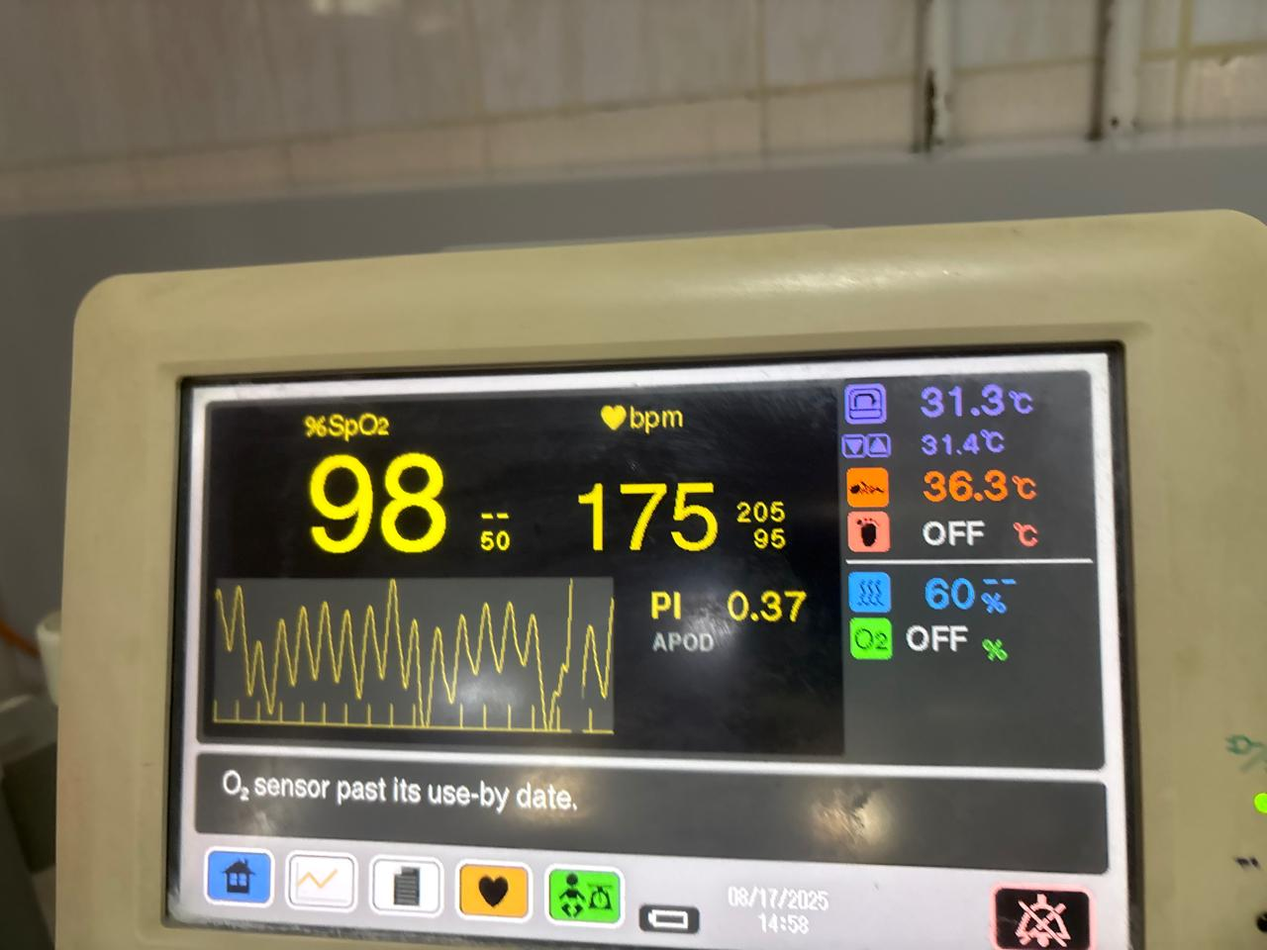air_temp_value: (900, 367, 1011, 437)
heart_rate_value: (561, 478, 734, 560)
humidity_value: (914, 571, 983, 623)
skin_temp_value: (901, 456, 1012, 515)
spo2_value: (295, 447, 456, 569)
